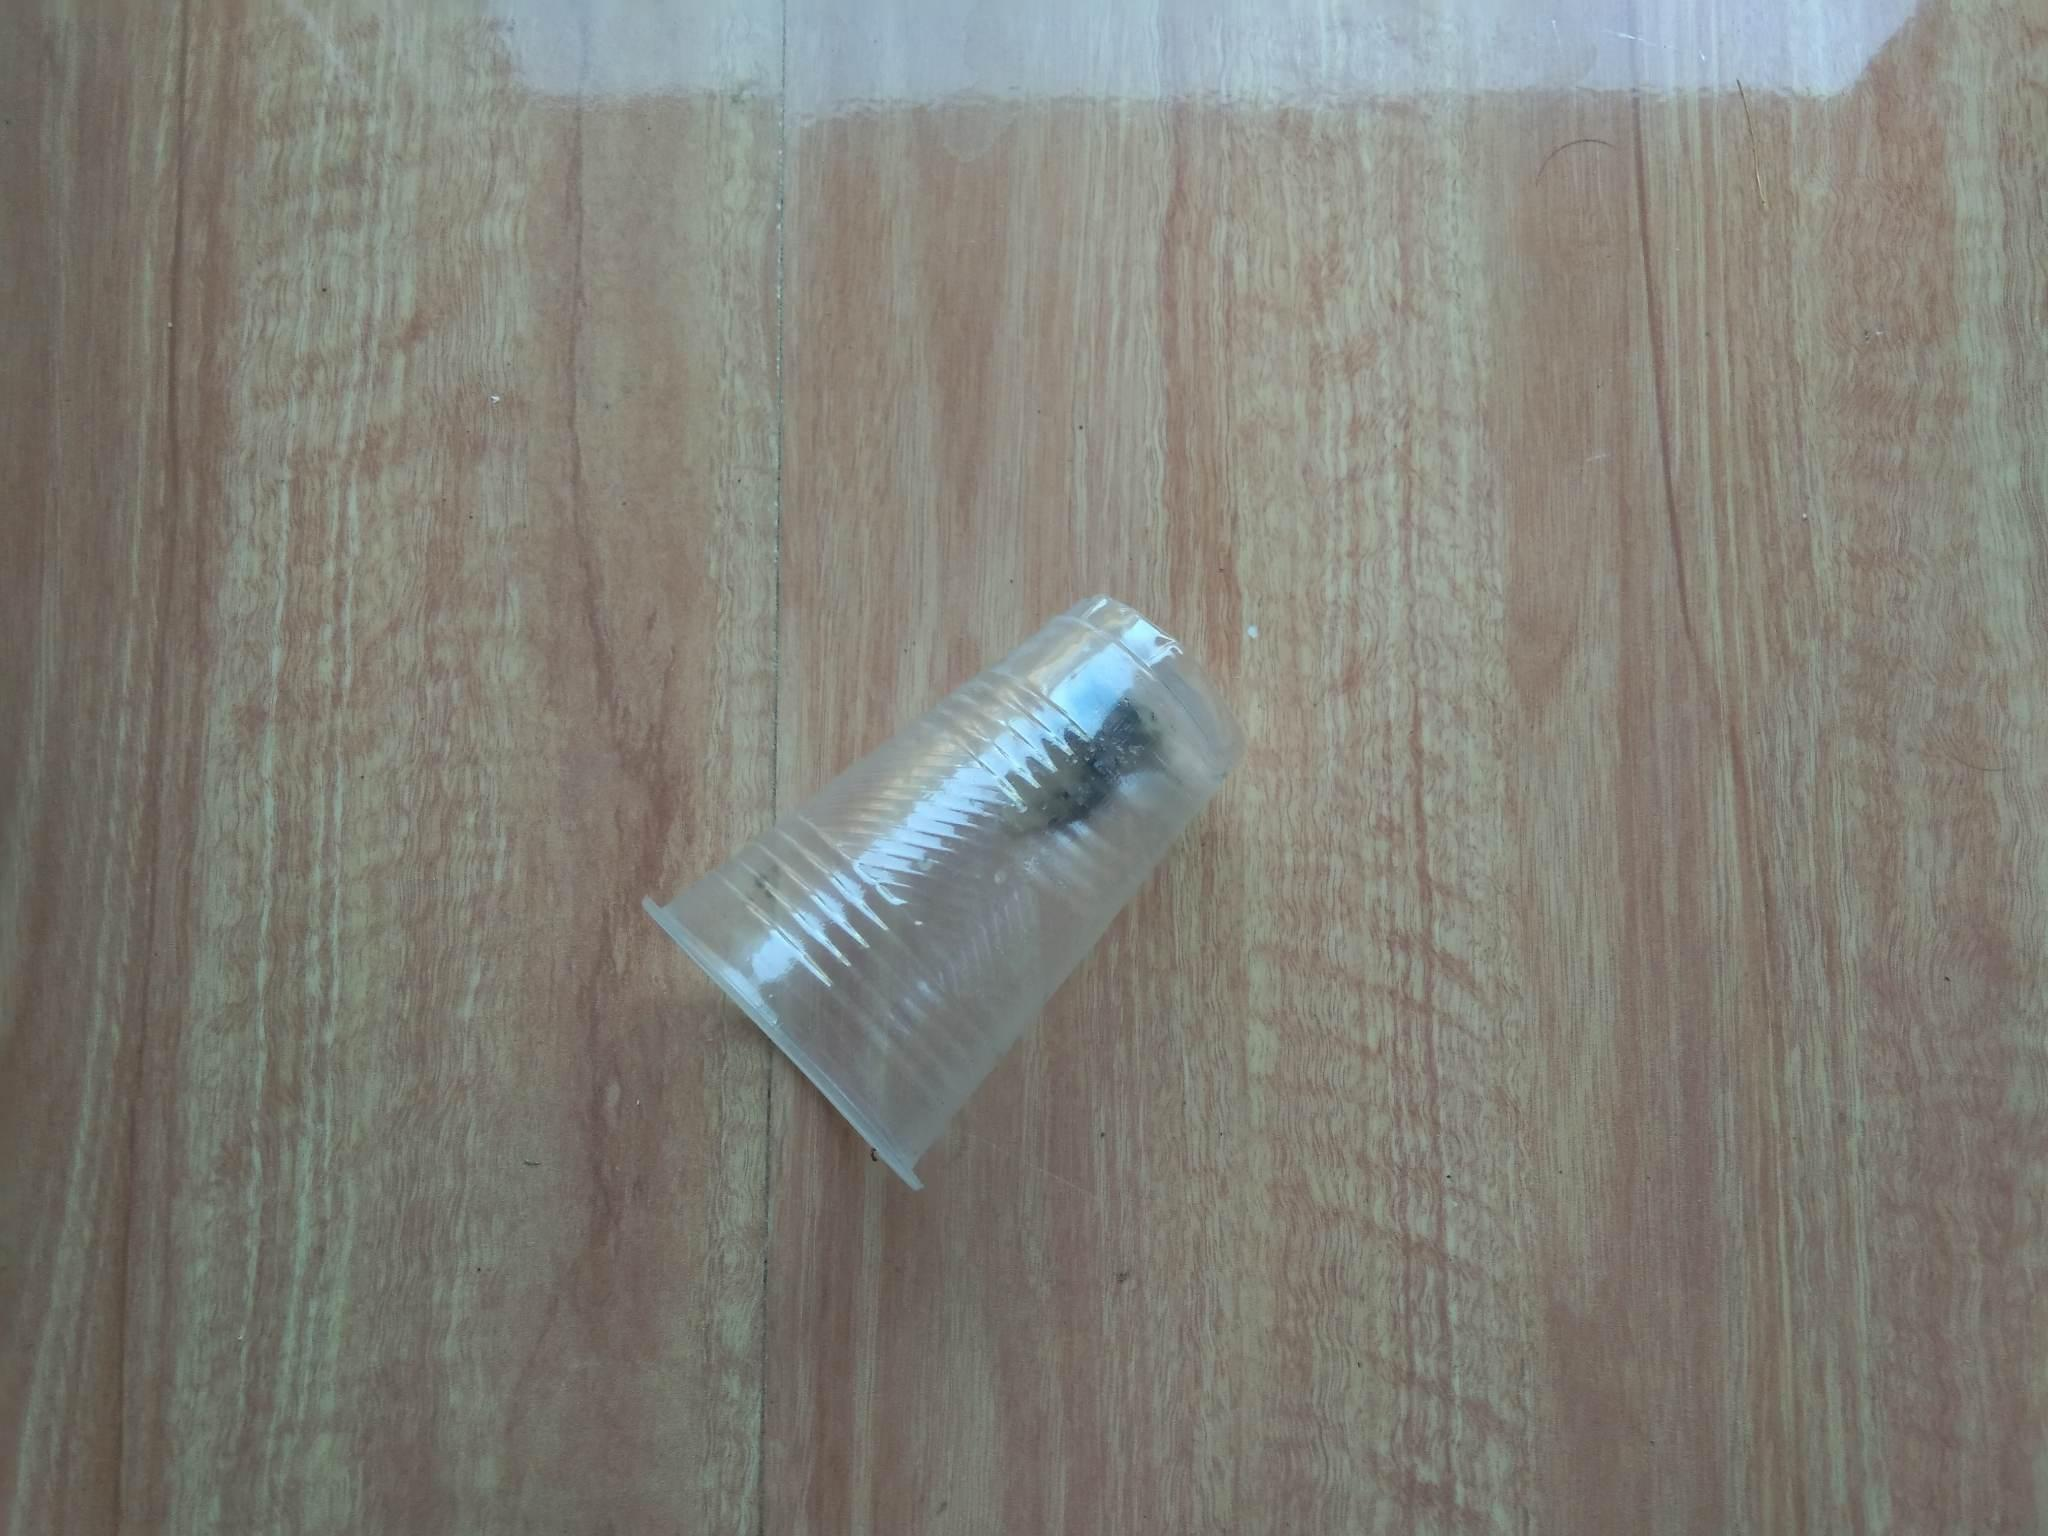plastic: (561, 586, 1305, 1176)
